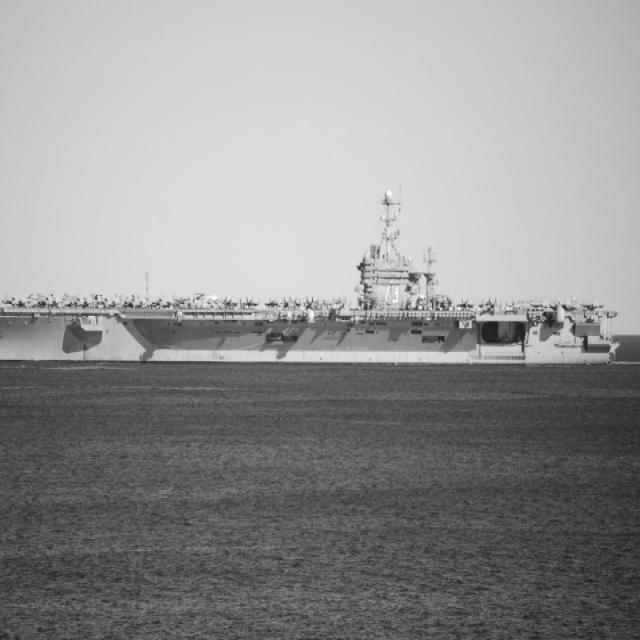Portanaves: (1, 182, 623, 372)
